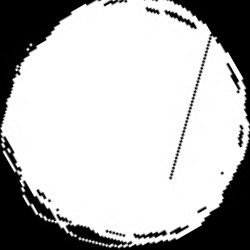spot: (3, 1, 246, 245)
